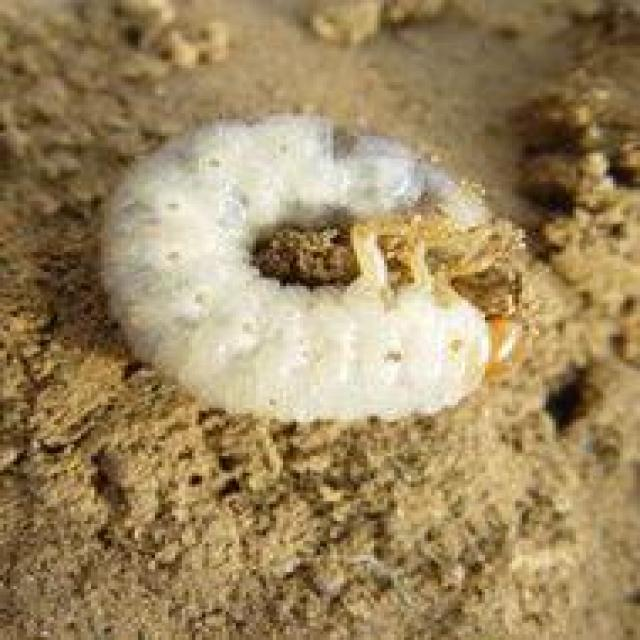Grub-Adult-: (47, 75, 548, 456)
